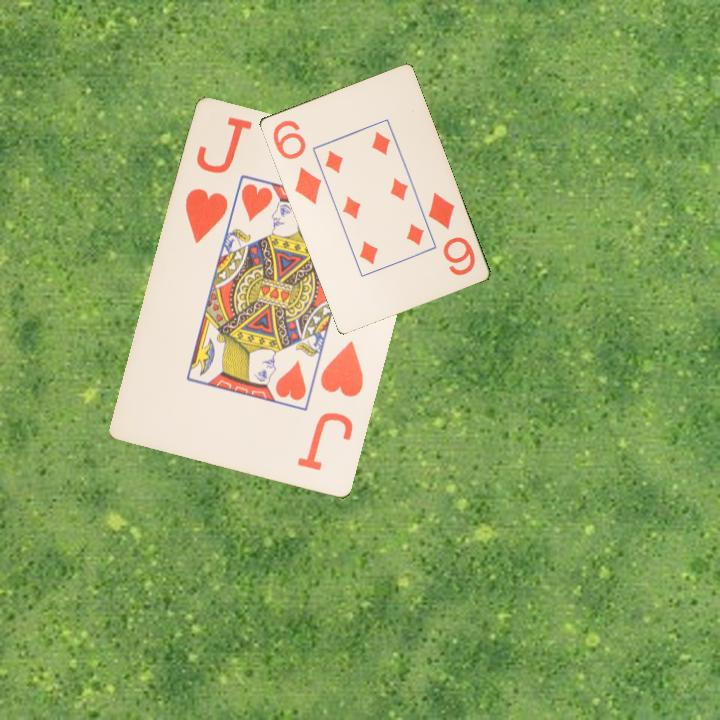6d: (269, 116, 324, 207), (424, 188, 478, 278)
Jh: (294, 337, 367, 475), (181, 185, 232, 247)
